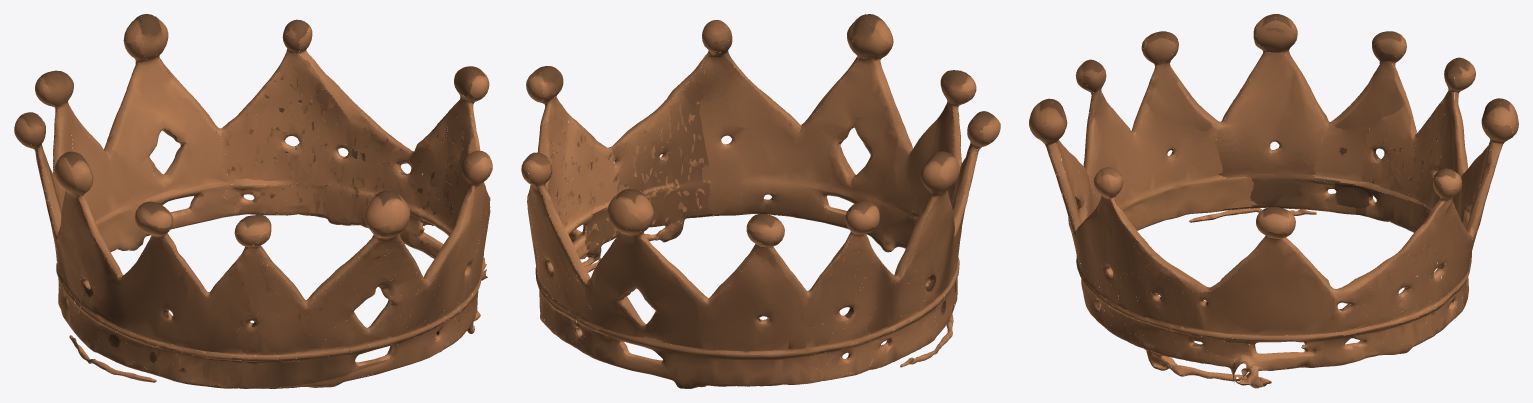
Rendered from corona-bronce.glb.
The picture shows the model from 3 angles, left to right: view 1: azimuth 30°, elevation 25°; view 2: azimuth 150°, elevation 25°; view 3: azimuth 270°, elevation 25°; orthographic projection. The views are drawn at different scales.
Parts seen in each view (by area): view 1: tmpl8wsos4q.ply; view 2: tmpl8wsos4q.ply; view 3: tmpl8wsos4q.ply.
Boxes of the visible parts, x1,y1,x2,y2 form: tmpl8wsos4q.ply: [14, 14, 492, 388]; tmpl8wsos4q.ply: [521, 14, 1000, 388]; tmpl8wsos4q.ply: [1029, 14, 1518, 388].
Size of the model in its own units: 1.74 by 0.8511 by 1.84.
1 material, 1 textured.
